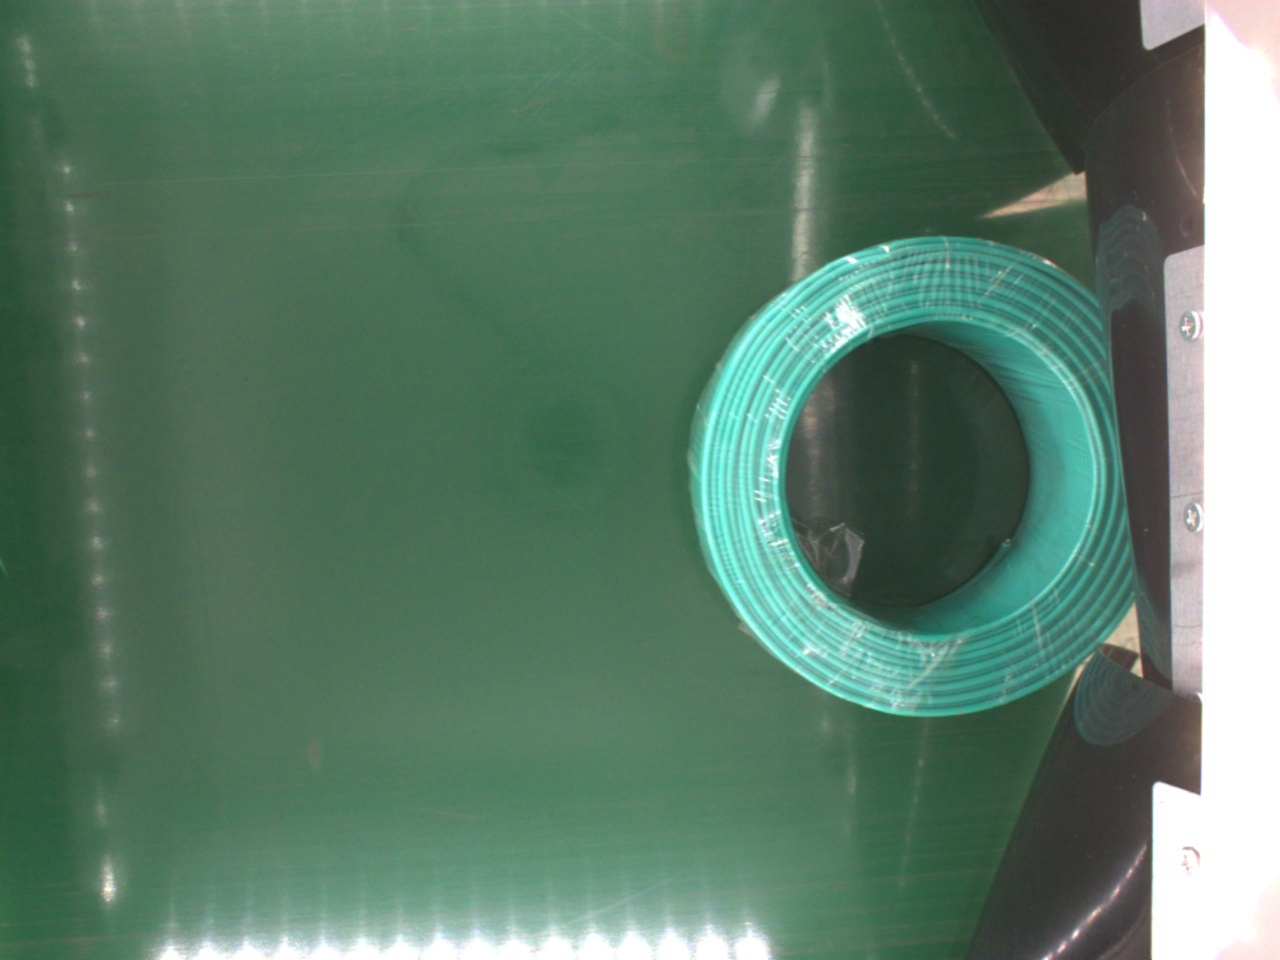green: (683, 233, 1119, 720)
